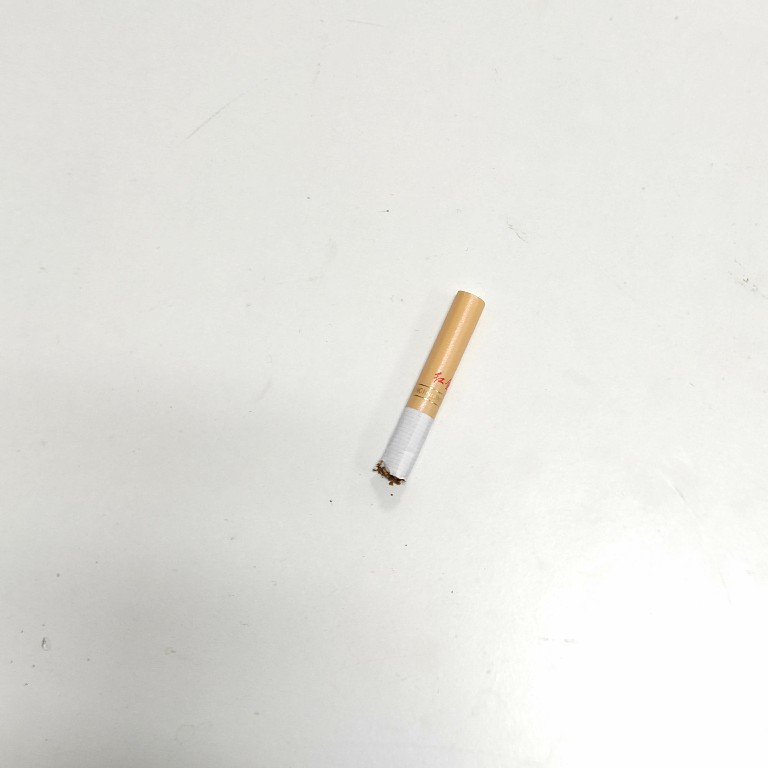cigarette: (367, 285, 487, 489)
